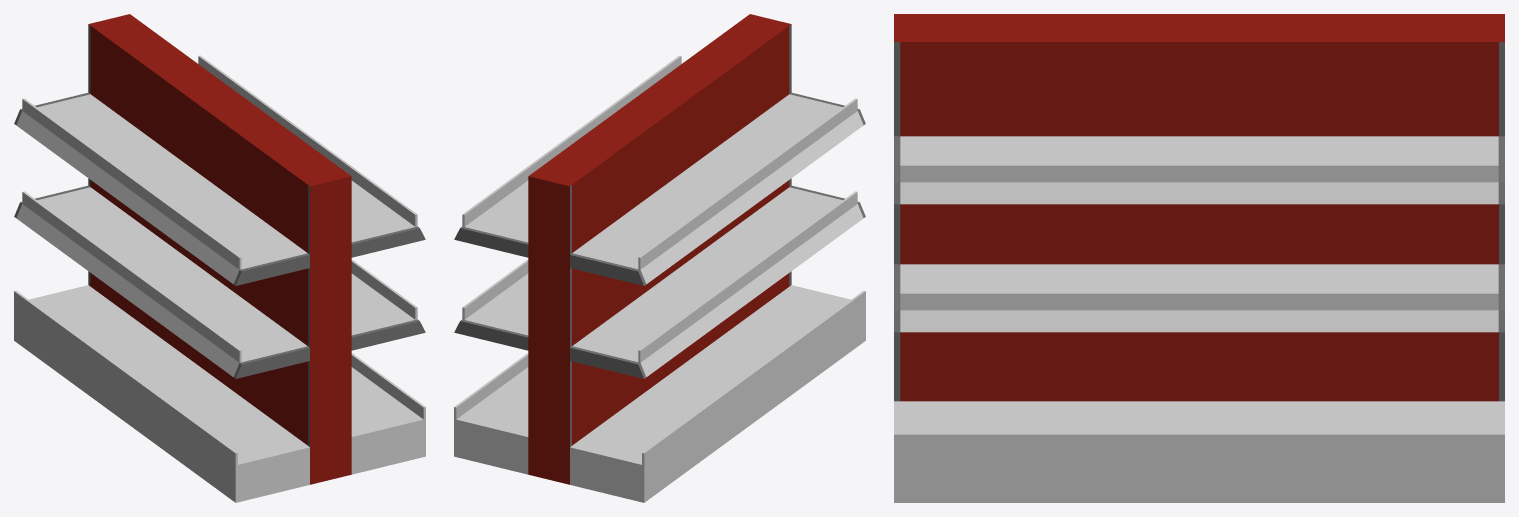
Rendered from SM_DisplayShelf.fbx.
3 renders of one model, left to right at view 1: azimuth 30°, elevation 25°; view 2: azimuth 150°, elevation 25°; view 3: azimuth 270°, elevation 25°, orthographic. The views are drawn at different scales.
Parts seen in each view (by area): view 1: SM_DisplayShelf.001; view 2: SM_DisplayShelf.001; view 3: SM_DisplayShelf.001.
Boxes of the visible parts, x1,y1,x2,y2 form: SM_DisplayShelf.001: (14,14,425,502); SM_DisplayShelf.001: (454,14,865,502); SM_DisplayShelf.001: (894,14,1504,502).
Bounding box in the file's own units: 100 × 150 × 202.
